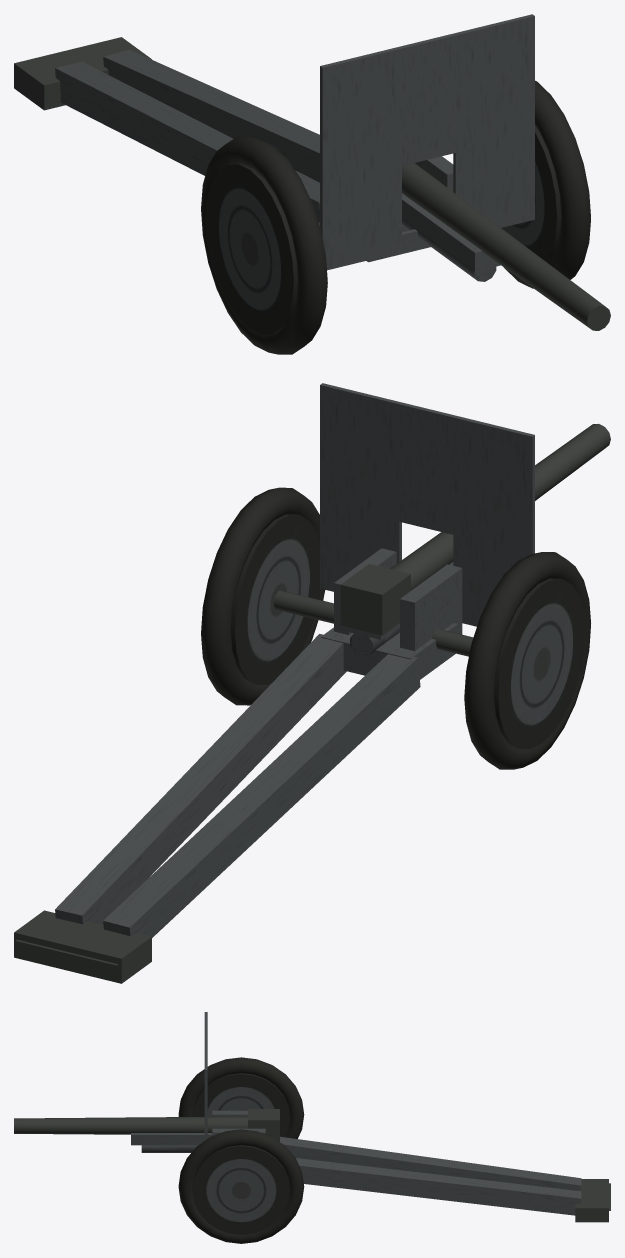
The model's file is artillery.glb.
3 views of the same model, one above another, from view 1: azimuth 30°, elevation 25°; view 2: azimuth 150°, elevation 25°; view 3: azimuth 270°, elevation 25° (orthographic). The views are drawn at different scales.
Parts seen in each view (by area): view 1: shield, wheels_right, trail_right, barrel, trail_left, wheels_left, carriage; view 2: shield, trail_right, wheels_right, trail_left, wheels_left, carriage, barrel; view 3: wheels_left, trail_left, barrel, wheels_right, trail_right, shield, carriage.
Part boxes in pixels (left/top/right/bottom): shield: left=320, top=14, right=534, bottom=270; wheels_right: left=201, top=137, right=327, bottom=354; trail_right: left=14, top=49, right=319, bottom=222; barrel: left=402, top=163, right=610, bottom=330; trail_left: left=62, top=37, right=319, bottom=182; wheels_left: left=501, top=80, right=590, bottom=288; carriage: left=318, top=156, right=453, bottom=262; shield: left=320, top=383, right=534, bottom=626; trail_right: left=62, top=654, right=420, bottom=983; wheels_right: left=464, top=552, right=590, bottom=769; trail_left: left=14, top=634, right=346, bottom=971; wheels_left: left=201, top=487, right=325, bottom=705; carriage: left=273, top=548, right=473, bottom=679; barrel: left=340, top=423, right=610, bottom=656; wheels_left: left=178, top=1129, right=304, bottom=1243; trail_left: left=296, top=1158, right=610, bottom=1222; barrel: left=14, top=1109, right=279, bottom=1152; wheels_right: left=178, top=1057, right=304, bottom=1138; trail_right: left=280, top=1136, right=610, bottom=1196; shield: left=204, top=1012, right=207, bottom=1140; carriage: left=212, top=1110, right=265, bottom=1135.
Bounding box in the file's own units: 1.95 × 1.9 × 6.17.
Materials: 3 (3 with a texture image).
